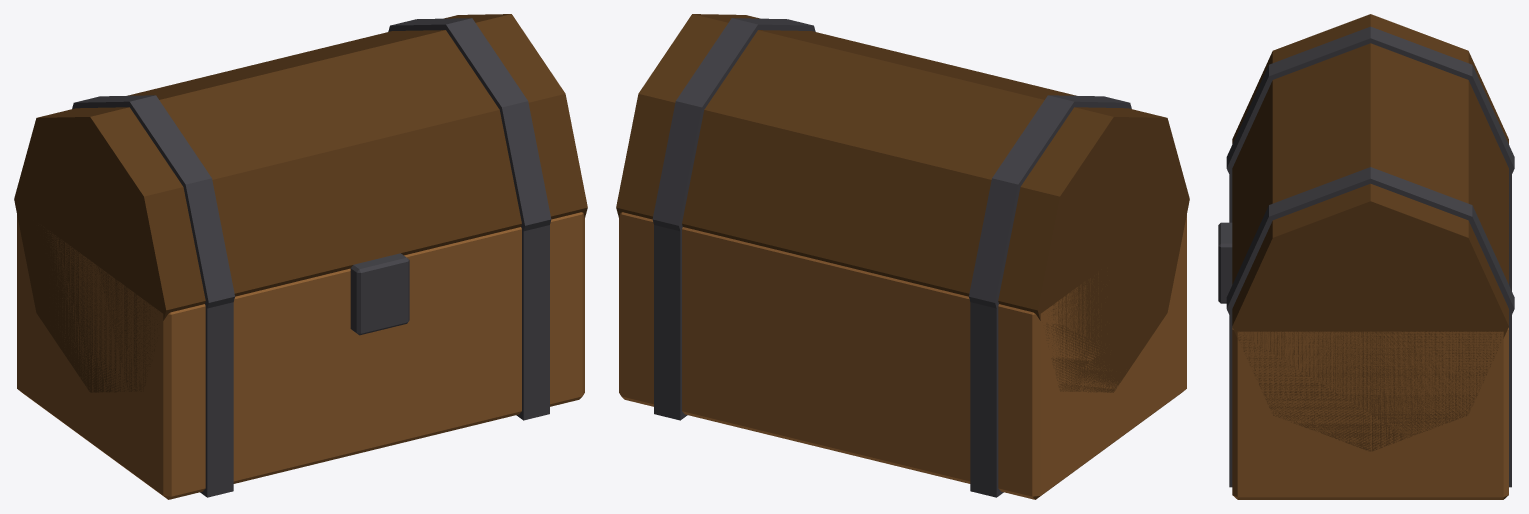
File: gen_treasure_chest.mobile-low.glb
3 views of the same model, side by side, from view 1: azimuth 30°, elevation 25°; view 2: azimuth 150°, elevation 25°; view 3: azimuth 270°, elevation 25° (orthographic). The views are drawn at different scales.
Visible parts, largest first — view 1: chest_lid, gen_treasure_chest; view 2: chest_lid, gen_treasure_chest; view 3: chest_lid, gen_treasure_chest.
Boxes of the visible parts, bbox=[...] form: chest_lid: bbox=[14, 14, 587, 392]; gen_treasure_chest: bbox=[17, 212, 584, 499]; chest_lid: bbox=[616, 14, 1189, 392]; gen_treasure_chest: bbox=[619, 212, 1186, 499]; chest_lid: bbox=[1226, 14, 1514, 451]; gen_treasure_chest: bbox=[1218, 166, 1511, 499].
Bounding box in the file's own units: 0.8 × 0.615 × 0.535.
1 material, 1 textured.
